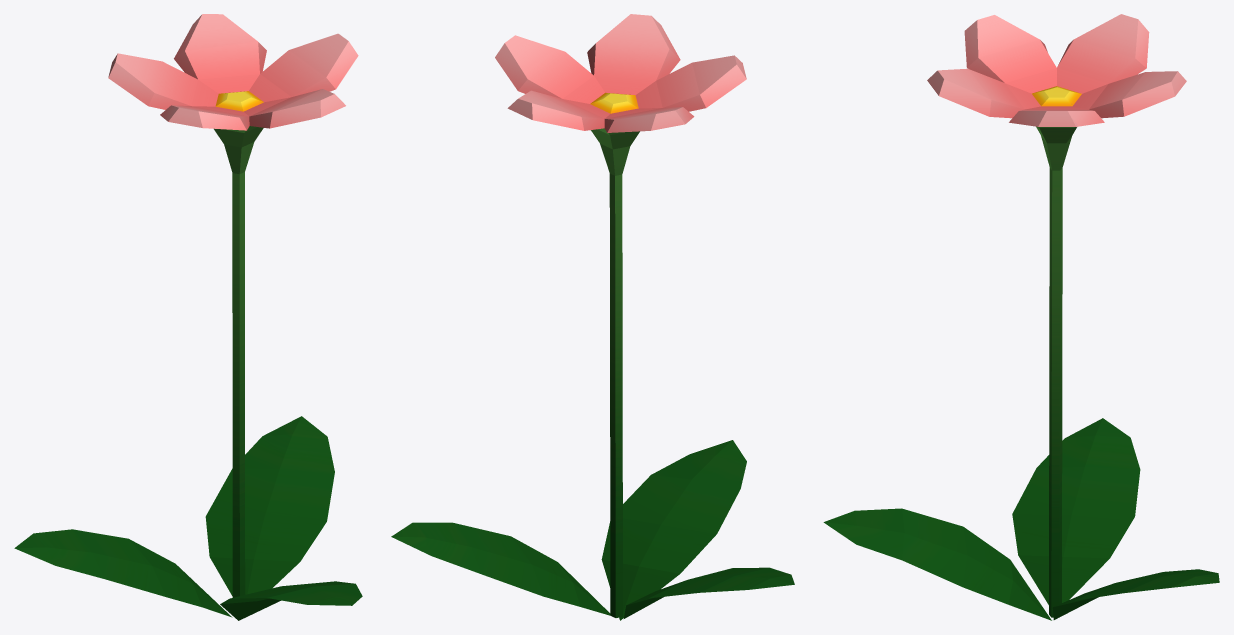
File: Flower_Pink_03.fbx
3 renders of one model, left to right at view 1: azimuth 30°, elevation 25°; view 2: azimuth 150°, elevation 25°; view 3: azimuth 270°, elevation 25°, orthographic.
Visible parts, largest first — view 1: Flower_Pink_03; view 2: Flower_Pink_03; view 3: Flower_Pink_03.
Boxes of the visible parts, x1,y1,x2,y2 form: Flower_Pink_03: (14, 14, 362, 620); Flower_Pink_03: (391, 14, 794, 620); Flower_Pink_03: (823, 14, 1219, 620).
Size of the model in its own units: 29.76 by 45.5 by 29.03.
